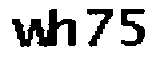5: (116, 6, 147, 51)
7: (82, 7, 113, 49)
h: (49, 5, 79, 49)
w: (6, 15, 52, 51)
